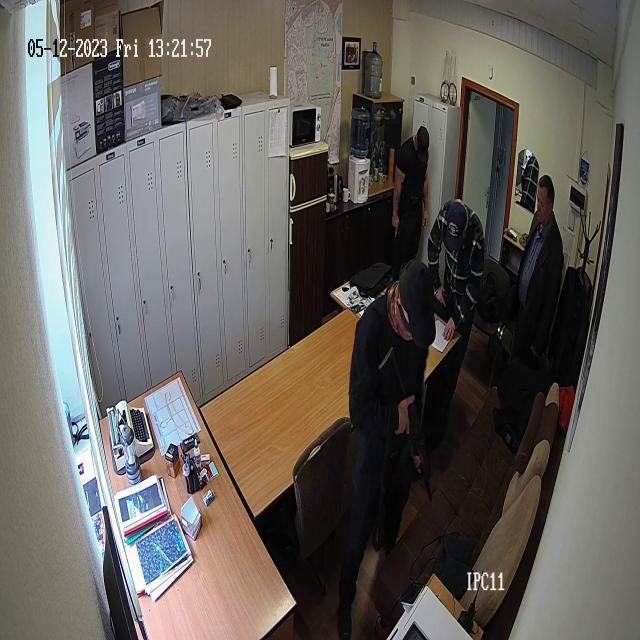pistol: (400, 400, 448, 518)
